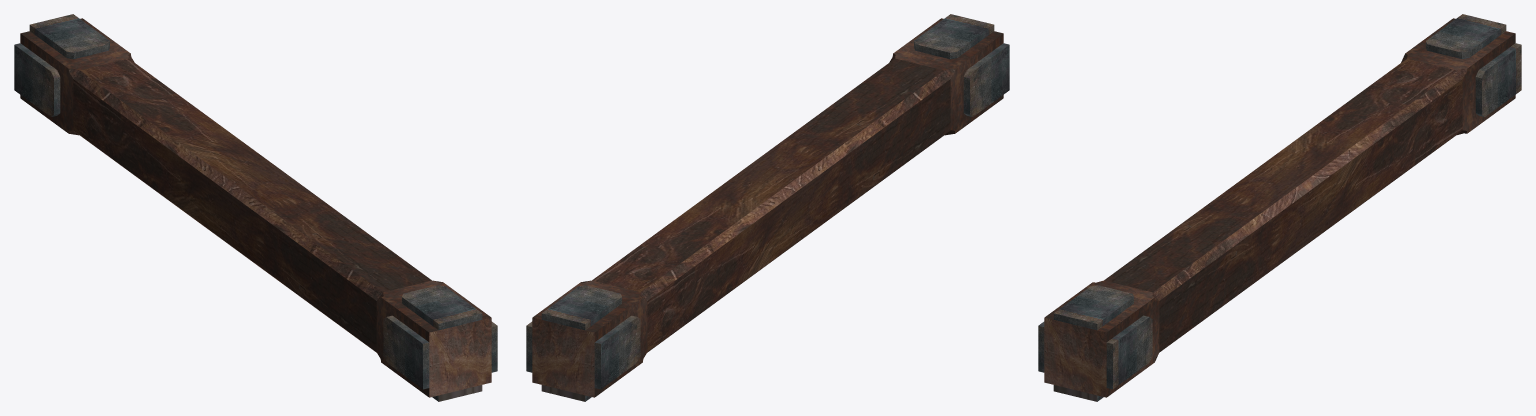
The model's file is PoutreV2_KOT.fbx.
3 views of the same model, side by side, from view 1: azimuth 30°, elevation 25°; view 2: azimuth 150°, elevation 25°; view 3: azimuth 330°, elevation 25° (orthographic).
Parts seen in each view (by area): view 1: Cube; view 2: Cube; view 3: Cube.
Boxes of the visible parts, left/top/right/bottom form: Cube: left=14, top=14, right=497, bottom=401; Cube: left=526, top=14, right=1009, bottom=401; Cube: left=1038, top=14, right=1521, bottom=401.
Size of the model in its own units: 200 by 200 by 1898.
